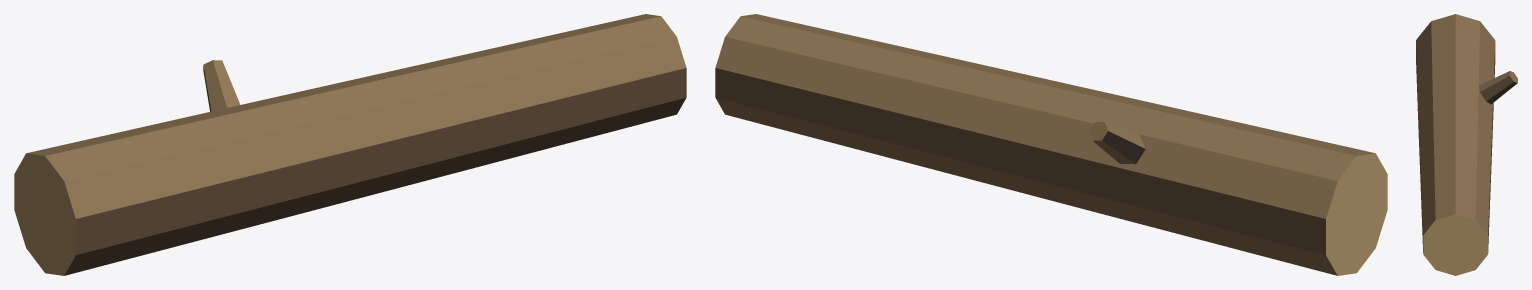
File: TW_PROP_LOG_STRAIGHT_A_LOD0.glb
3 views of the same model, side by side, from view 1: azimuth 30°, elevation 25°; view 2: azimuth 150°, elevation 25°; view 3: azimuth 270°, elevation 25° (orthographic). The views are drawn at different scales.
Visible parts, largest first — view 1: TW_PROP_LOG_STRAIGHT_A_LOD0; view 2: TW_PROP_LOG_STRAIGHT_A_LOD0; view 3: TW_PROP_LOG_STRAIGHT_A_LOD0.
Part boxes in pixels (x1=…): TW_PROP_LOG_STRAIGHT_A_LOD0: x1=14, y1=14, x2=686, y2=275; TW_PROP_LOG_STRAIGHT_A_LOD0: x1=715, y1=14, x2=1387, y2=275; TW_PROP_LOG_STRAIGHT_A_LOD0: x1=1416, y1=14, x2=1517, y2=275.
Bounding box in the file's own units: 2.2 × 0.4473 × 0.4894.
Materials: 1 (1 with a texture image).
